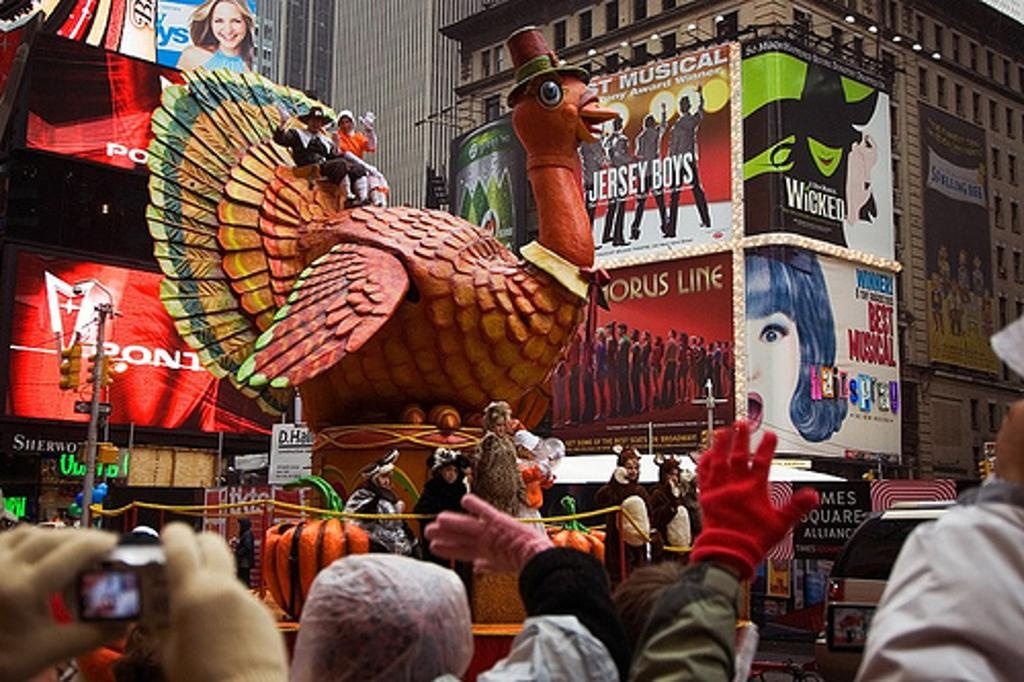human_face: (706, 295, 800, 438), (212, 3, 244, 46), (442, 461, 456, 482), (624, 458, 638, 478), (667, 465, 679, 483), (495, 416, 507, 434), (378, 469, 390, 486), (309, 114, 321, 130), (340, 117, 350, 131), (616, 325, 622, 333), (640, 330, 646, 338), (666, 328, 672, 336), (595, 331, 601, 339), (630, 330, 636, 336), (653, 337, 657, 343)
